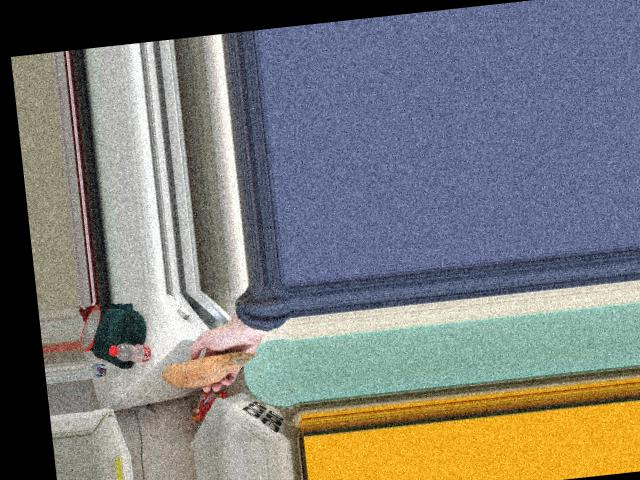sweet_potato: (169, 348, 249, 389)
